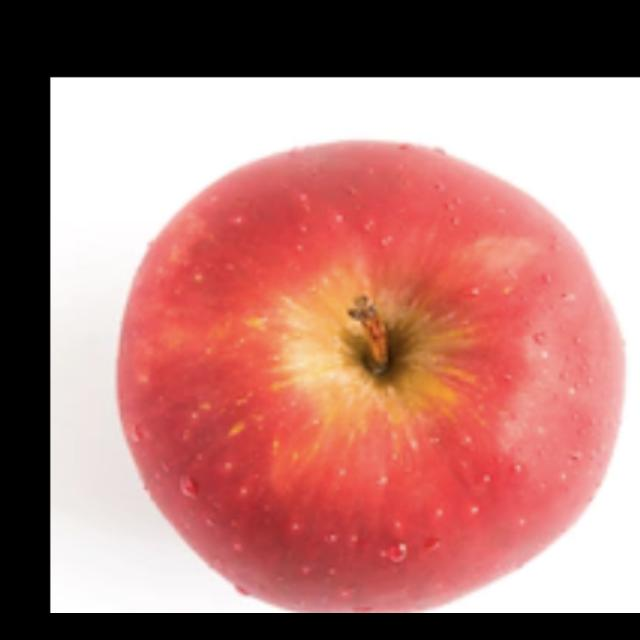Apel Segar: (117, 139, 627, 613)
